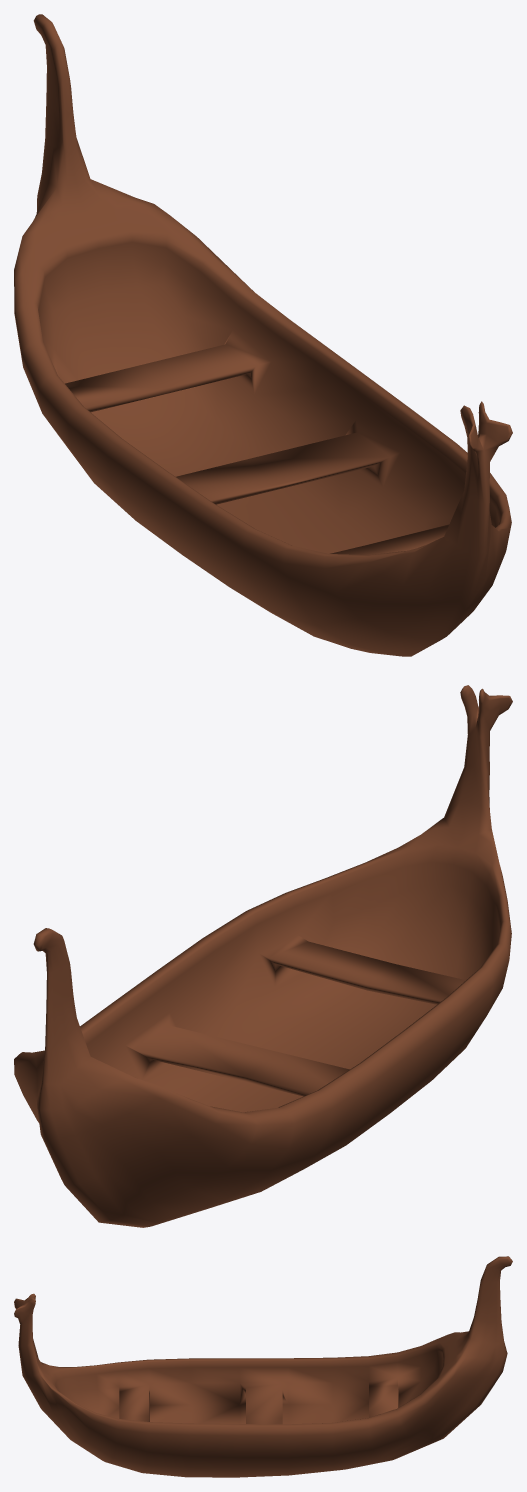
File: Ship.fbx
The picture shows the model from 3 angles, top to bottom: view 1: azimuth 30°, elevation 25°; view 2: azimuth 150°, elevation 25°; view 3: azimuth 270°, elevation 25°; orthographic projection. The views are drawn at different scales.
Visible parts, largest first — view 1: Ship; view 2: Ship; view 3: Ship.
Boxes of the visible parts, bbox=[...] form: Ship: bbox=[14, 14, 512, 656]; Ship: bbox=[14, 685, 512, 1227]; Ship: bbox=[14, 1256, 512, 1477].
Size of the model in its own units: 1390 by 1989 by 4099.
